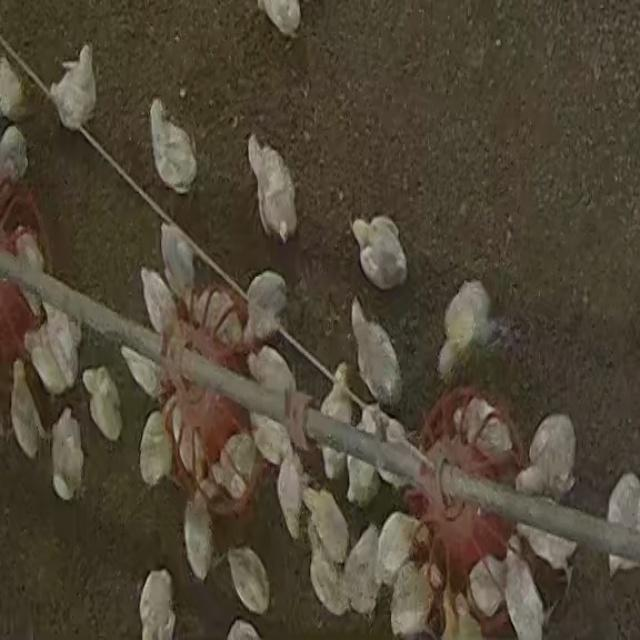chicken: (242, 134, 304, 242), (436, 278, 496, 380), (350, 295, 402, 409), (148, 96, 198, 196), (46, 42, 98, 131), (318, 367, 358, 481), (350, 214, 407, 292), (518, 509, 578, 575), (374, 510, 434, 576), (526, 413, 576, 491), (369, 410, 415, 491), (505, 552, 547, 638), (242, 270, 288, 348), (303, 486, 349, 563), (41, 304, 81, 390), (465, 554, 508, 634), (605, 472, 639, 572), (340, 528, 379, 614), (454, 401, 516, 454), (10, 363, 44, 458), (205, 434, 255, 498), (187, 291, 241, 350), (51, 409, 84, 501), (172, 408, 209, 490), (226, 544, 270, 612), (388, 564, 430, 635), (83, 366, 122, 440), (160, 222, 197, 296), (139, 568, 177, 638), (256, 414, 296, 478), (138, 413, 172, 486), (250, 344, 293, 400), (141, 269, 175, 339), (310, 554, 348, 615), (185, 500, 213, 579), (277, 454, 303, 538), (120, 346, 161, 398)
